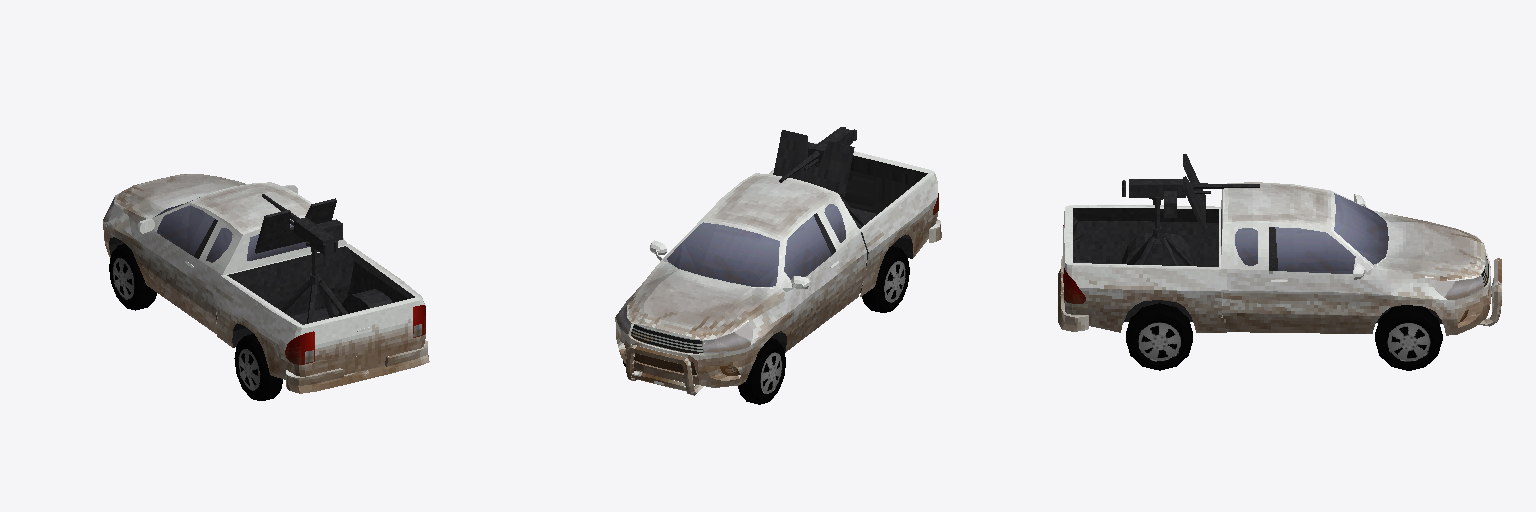
3 renders of one model, left to right at view 1: azimuth 30°, elevation 25°; view 2: azimuth 150°, elevation 25°; view 3: azimuth 270°, elevation 25°, orthographic.
Parts seen in each view (by area): view 1: mesh-0_mesh-0-geometry-model; view 2: mesh-0_mesh-0-geometry-model; view 3: mesh-0_mesh-0-geometry-model.
Boxes of the visible parts, x1,y1,x2,y2 form: mesh-0_mesh-0-geometry-model: [103, 174, 429, 400]; mesh-0_mesh-0-geometry-model: [615, 127, 941, 404]; mesh-0_mesh-0-geometry-model: [1058, 154, 1501, 370].
Bounding box in the file's own units: 2.89 × 2.93 × 7.03.
1 materials, 1 textured.